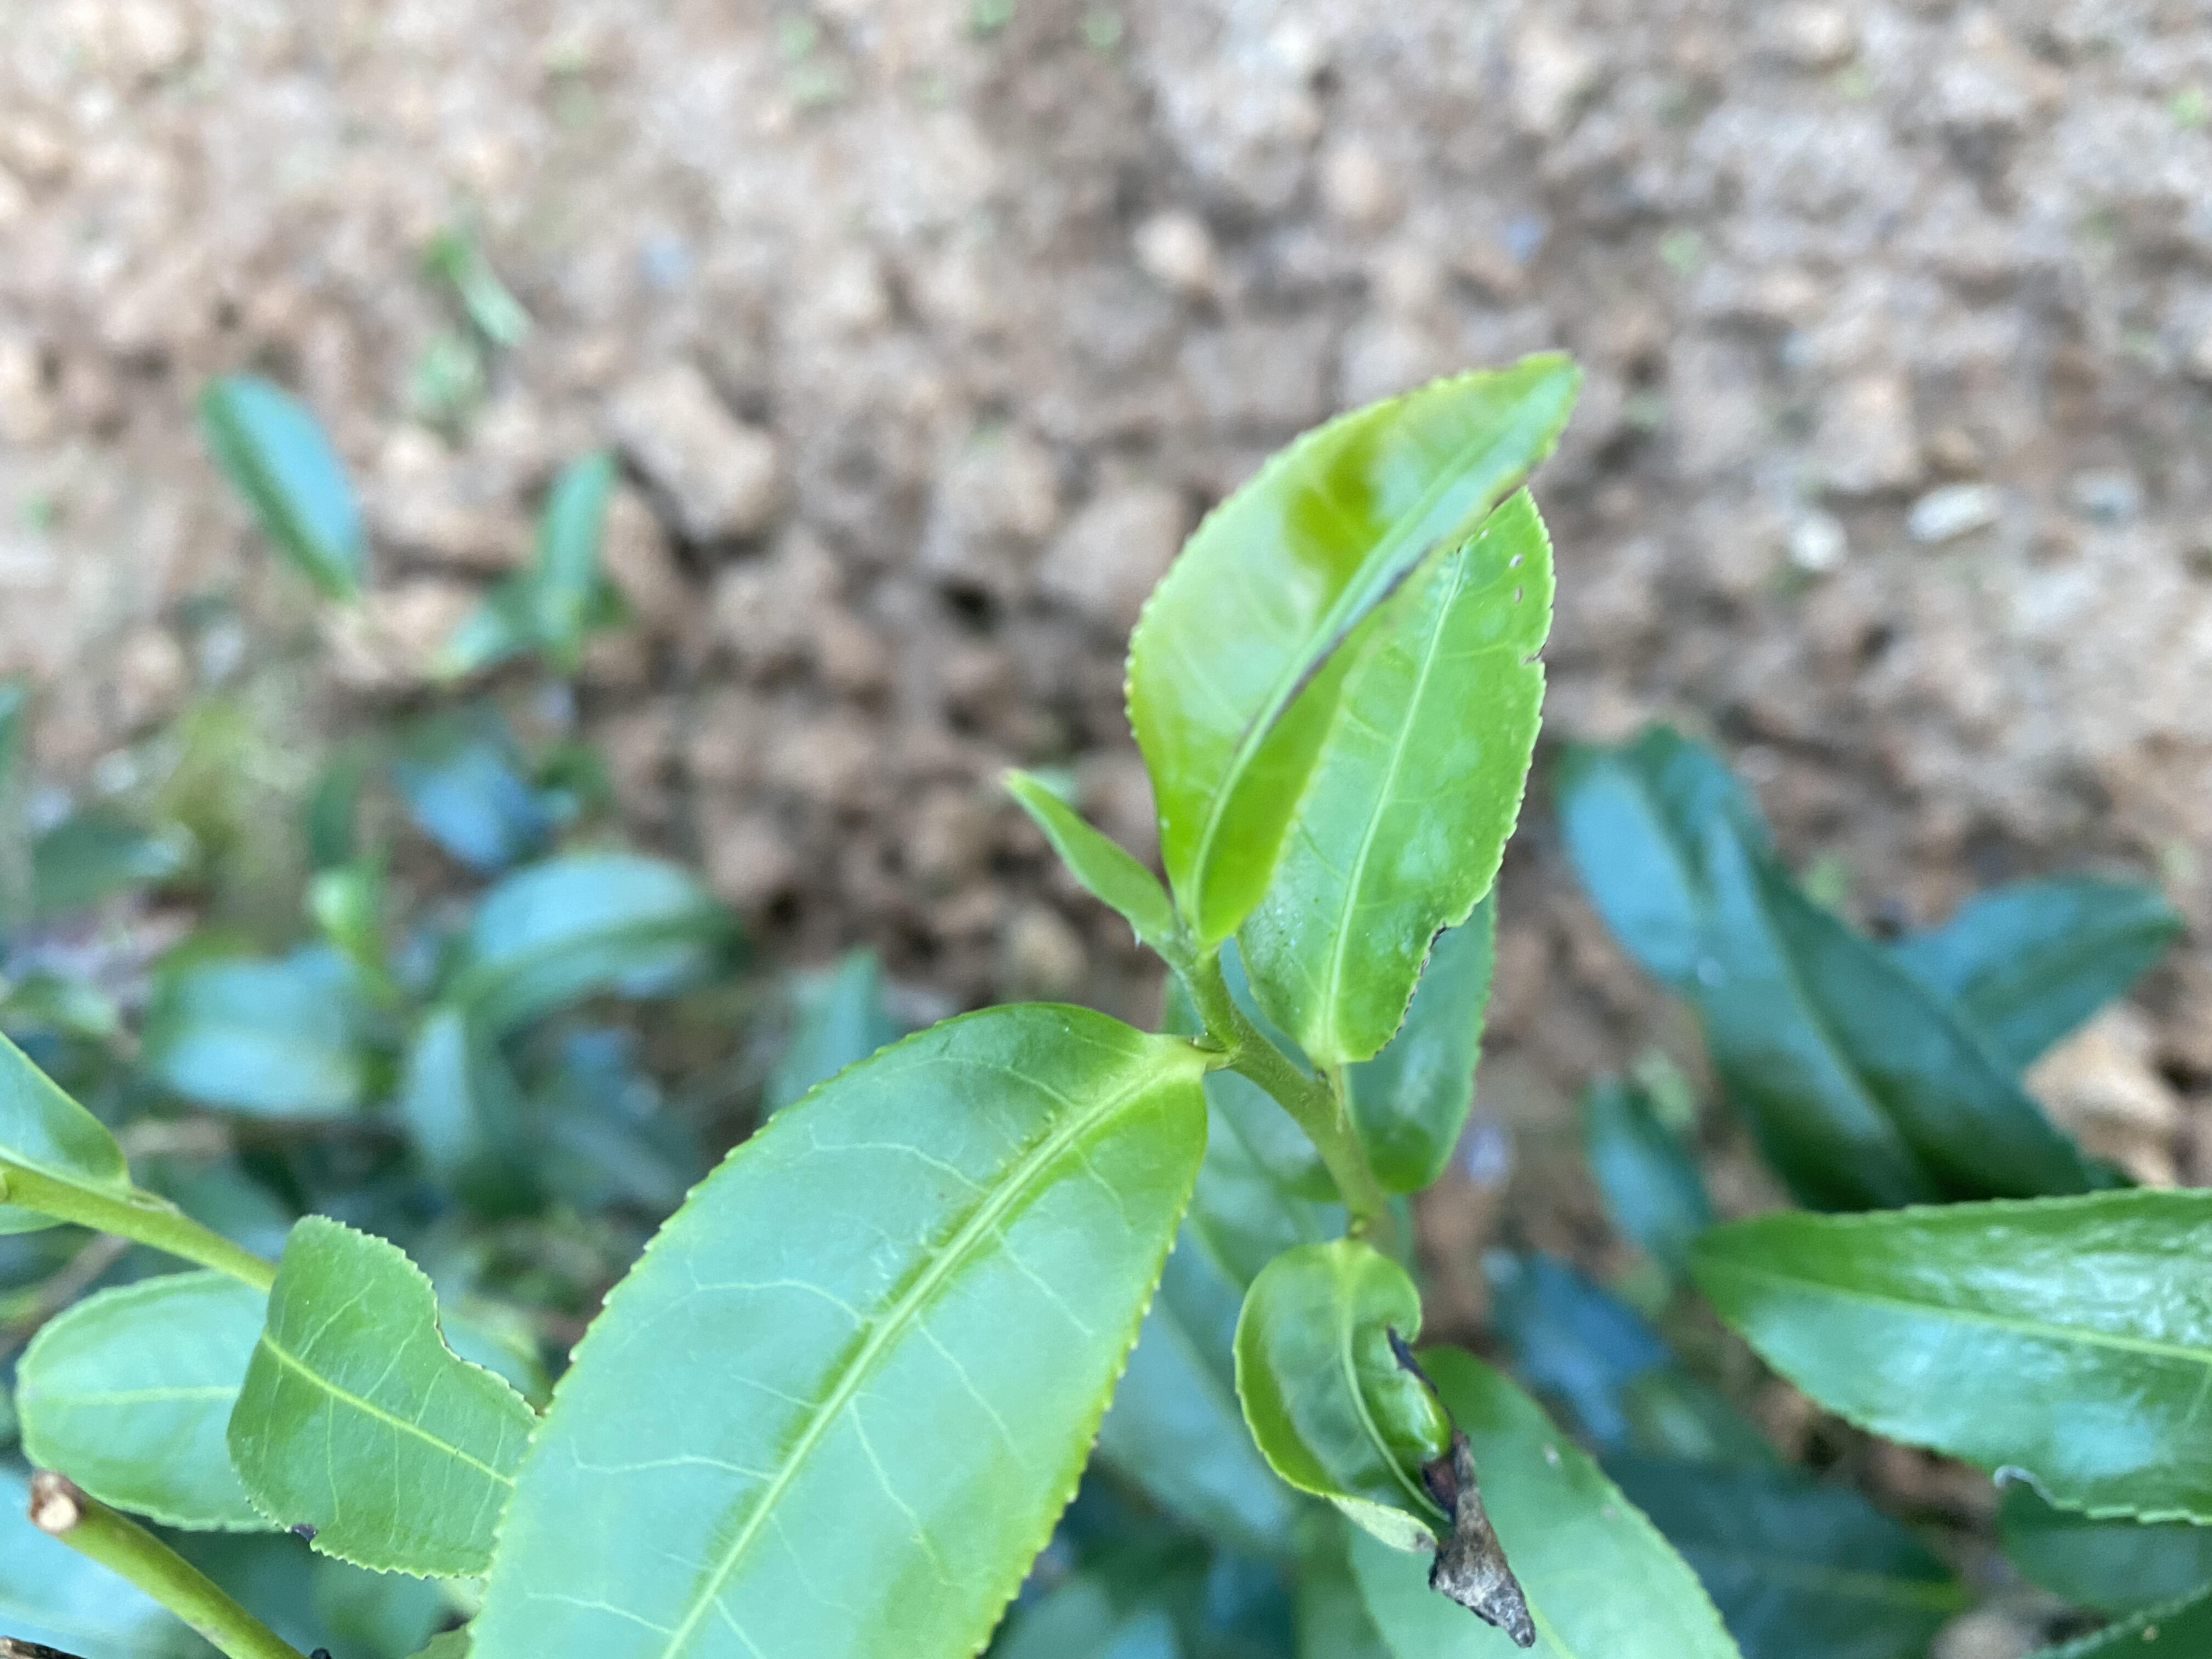healthy: (463, 997, 1211, 1659)
tanju_high: (1230, 1237, 1538, 1647)
tanju_low: (1240, 486, 1557, 1072), (226, 1213, 519, 1581)
